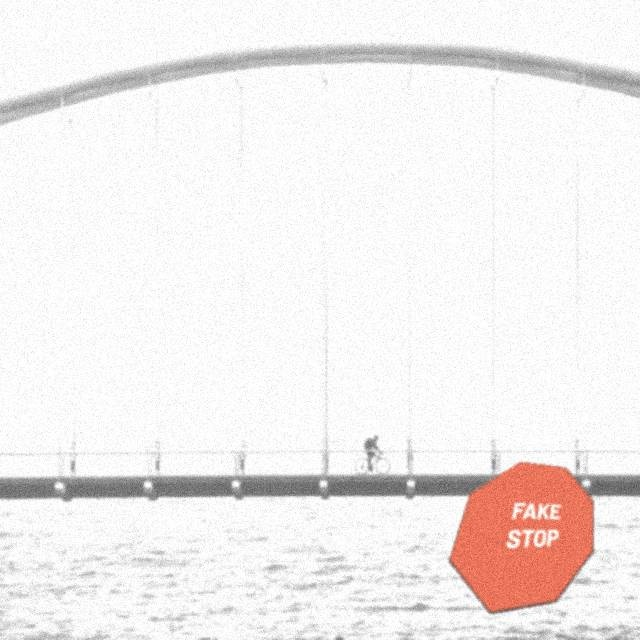FAKE_STOP: (448, 461, 594, 614)
